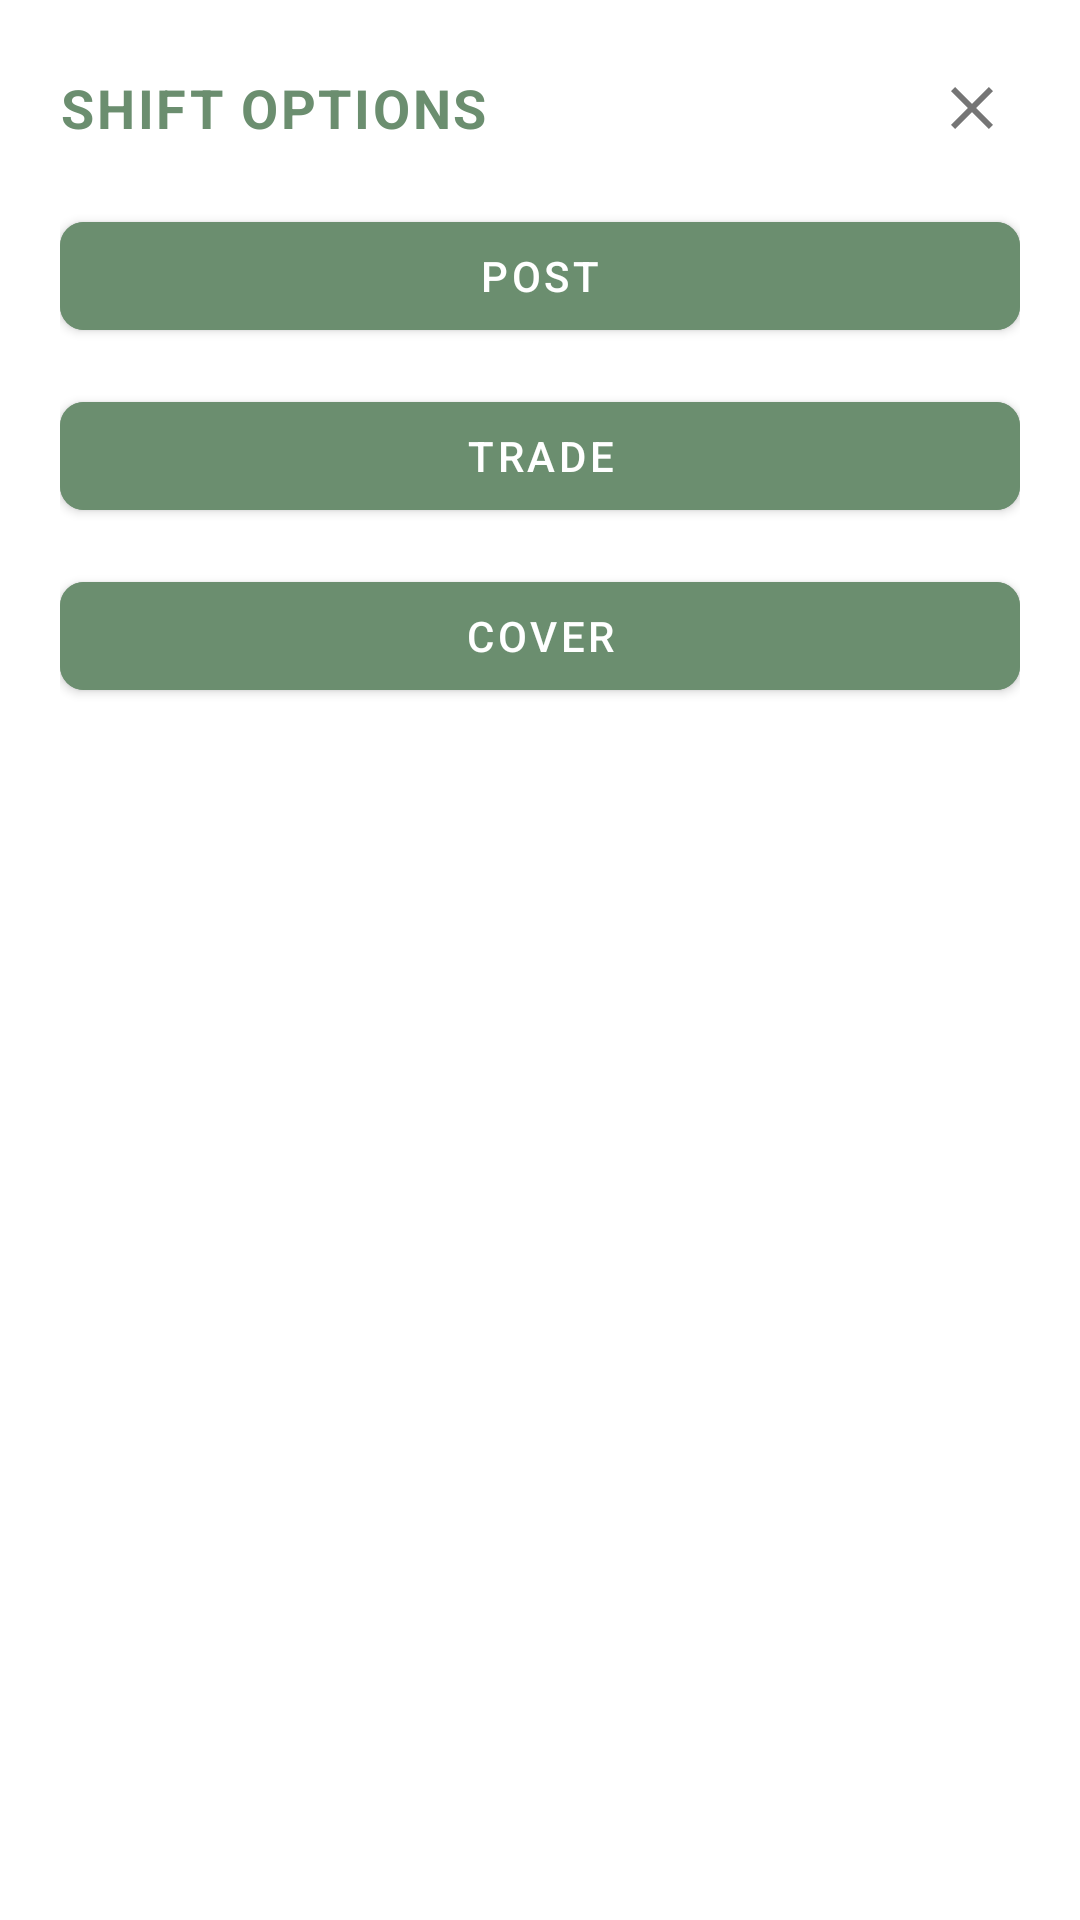

Icon click points for this 1080*1920 phone screenshot, format (x=x, y=y):
Close dialog: (x=972, y=108)
